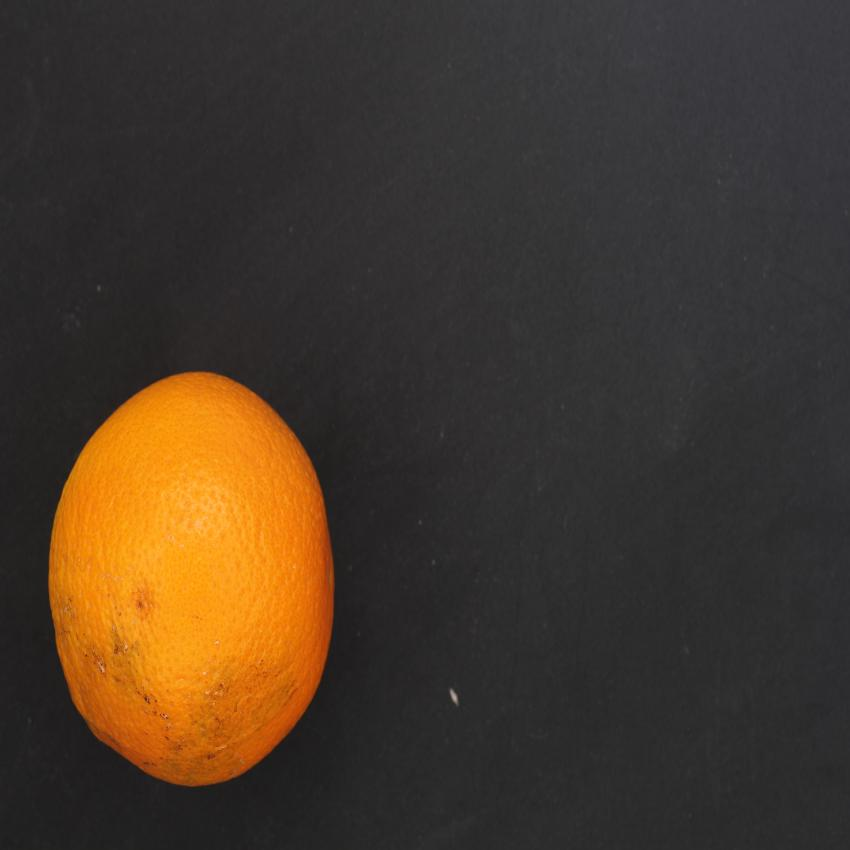Buen estado: (38, 350, 355, 800)
